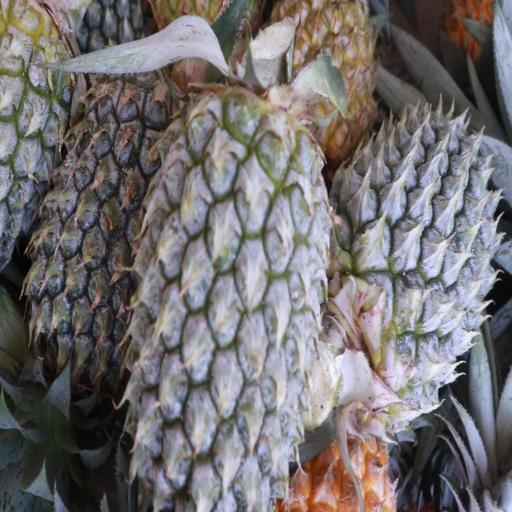Pineapple - v8 v1: (279, 0, 379, 136)
